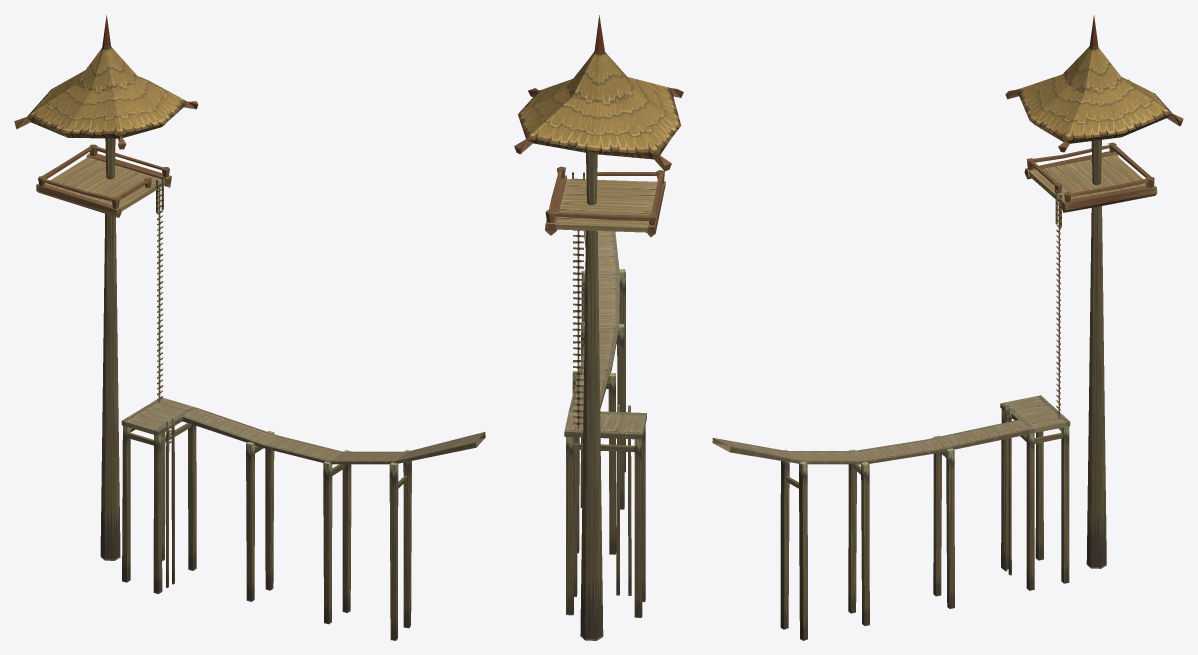
Rendered from Outset Island Watch Tower.fbx.
3 views of the same model, side by side, from view 1: azimuth 30°, elevation 25°; view 2: azimuth 150°, elevation 25°; view 3: azimuth 270°, elevation 25° (orthographic). The views are drawn at different scales.
Parts seen in each view (by area): view 1: Island.005; view 2: Island.005; view 3: Island.005.
Boxes of the visible parts, x1,y1,x2,y2 form: Island.005: [14, 15, 485, 640]; Island.005: [514, 15, 683, 640]; Island.005: [712, 15, 1183, 640].
Bounding box in the file's own units: 197 × 375 × 291.
